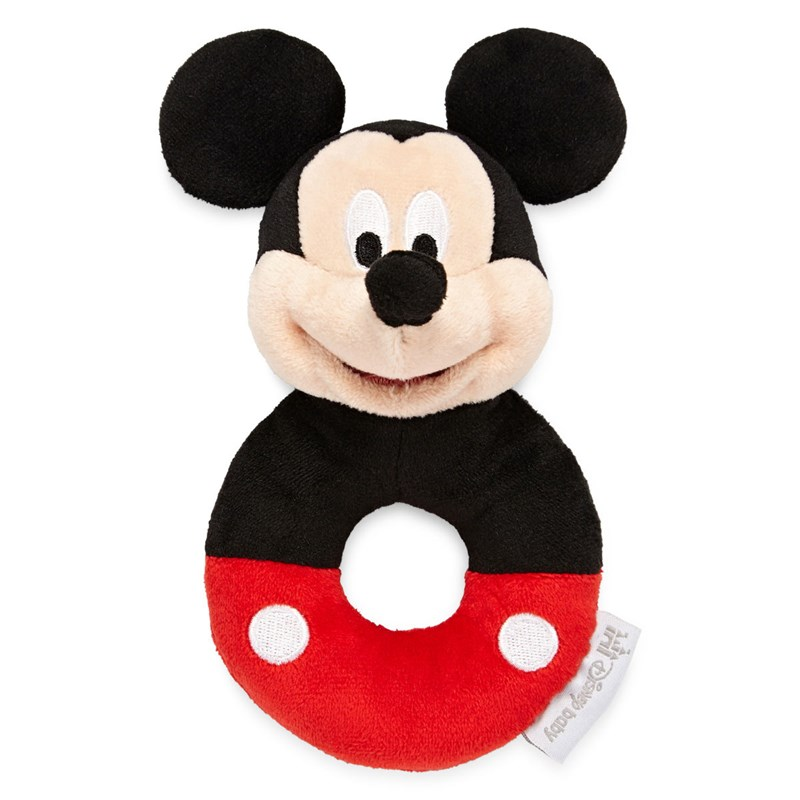Mickey: (155, 20, 635, 421)
